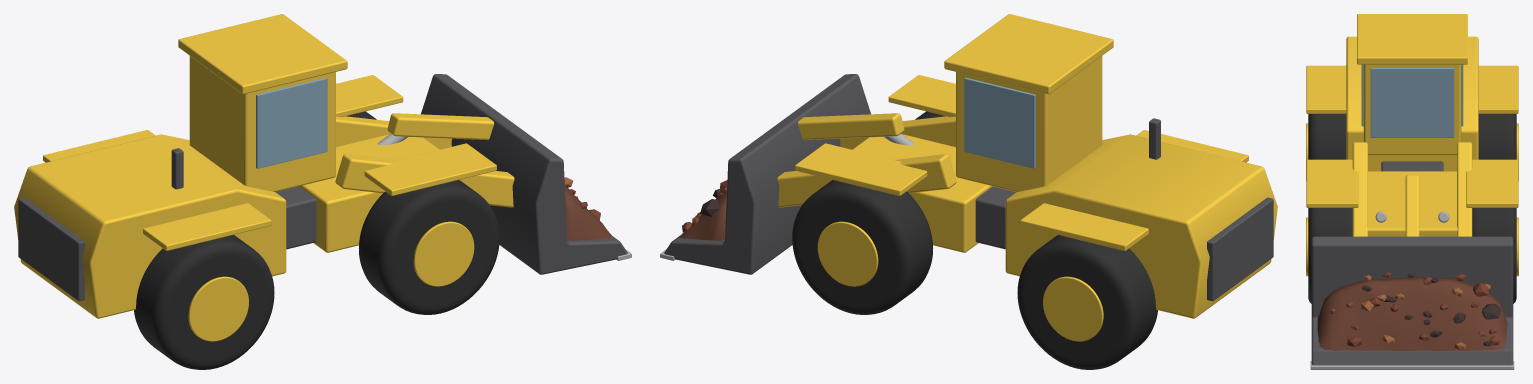
Rendered from wheel_loader.glb.
The picture shows the model from 3 angles, left to right: view 1: azimuth 30°, elevation 25°; view 2: azimuth 150°, elevation 25°; view 3: azimuth 270°, elevation 25°; orthographic projection. The views are drawn at different scales.
Visible parts, largest first — view 1: WL_RearBody, WL_Bucket, WL_Wheel_1.6_-1, WL_Wheel_-1.6_-1, WL_Cab, WL_CabRoof, WL_Cab_Side.001, WL_FrontFrame, WL_Grille, WL_Fender_1.6_-1, WL_Fender_-1.6_-1, WL_Wheel_1.6_-1_hub (+9 smaller); view 2: WL_RearBody, WL_Bucket, WL_Wheel_1.6_1, WL_Wheel_-1.6_1, WL_Cab, WL_CabRoof, WL_Cab_Side, WL_FrontFrame, WL_Grille, WL_Fender_1.6_1, WL_Fender_-1.6_1, WL_Wheel_1.6_1_hub (+8 smaller); view 3: WL_Bucket, WL_OreLoad, WL_Cab_Front, WL_CabRoof, WL_FrontFrame, WL_RearBody, WL_Cab, WL_Fender_1.6_1, WL_Fender_1.6_-1, WL_Fender_-1.6_1, WL_Fender_-1.6_-1, WL_Wheel_-1.6_1 (+10 smaller).
Part boxes in pixels (x1,y1,x2,y2): WL_RearBody: (14,134,286,318); WL_Bucket: (421,74,627,274); WL_Wheel_1.6_-1: (359,180,499,314); WL_Wheel_-1.6_-1: (134,235,274,369); WL_Cab: (189,56,335,191); WL_CabRoof: (178,14,347,94); WL_Cab_Side.001: (256,77,327,168); WL_FrontFrame: (299,134,439,252); WL_Grille: (18,197,84,301); WL_Fender_1.6_-1: (364,143,496,195); WL_Fender_-1.6_-1: (143,203,271,250); WL_Wheel_1.6_-1_hub: (413,221,474,286); WL_RearBody: (1005,134,1277,318); WL_Bucket: (664,74,870,274); WL_Wheel_1.6_1: (792,180,932,314); WL_Wheel_-1.6_1: (1017,235,1157,369); WL_Cab: (956,56,1102,191); WL_CabRoof: (944,14,1113,94); WL_Cab_Side: (964,77,1035,168); WL_FrontFrame: (852,134,992,252); WL_Grille: (1207,197,1273,301); WL_Fender_1.6_1: (795,143,927,195); WL_Fender_-1.6_1: (1020,203,1148,250); WL_Wheel_1.6_1_hub: (817,221,878,286); WL_Bucket: (1311,236,1513,365); WL_OreLoad: (1317,272,1507,350); WL_Cab_Front: (1370,68,1454,137); WL_CabRoof: (1357,14,1467,64); WL_FrontFrame: (1367,171,1457,236); WL_RearBody: (1346,36,1478,171); WL_Cab: (1363,64,1461,155); WL_Fender_1.6_1: (1466,159,1518,207); WL_Fender_1.6_-1: (1306,159,1358,207); WL_Fender_-1.6_1: (1478,65,1518,113); WL_Fender_-1.6_-1: (1306,65,1346,113); WL_Wheel_-1.6_1: (1478,114,1516,159).
Size of the model in its own units: 7.45 by 3.41 by 3.06.
